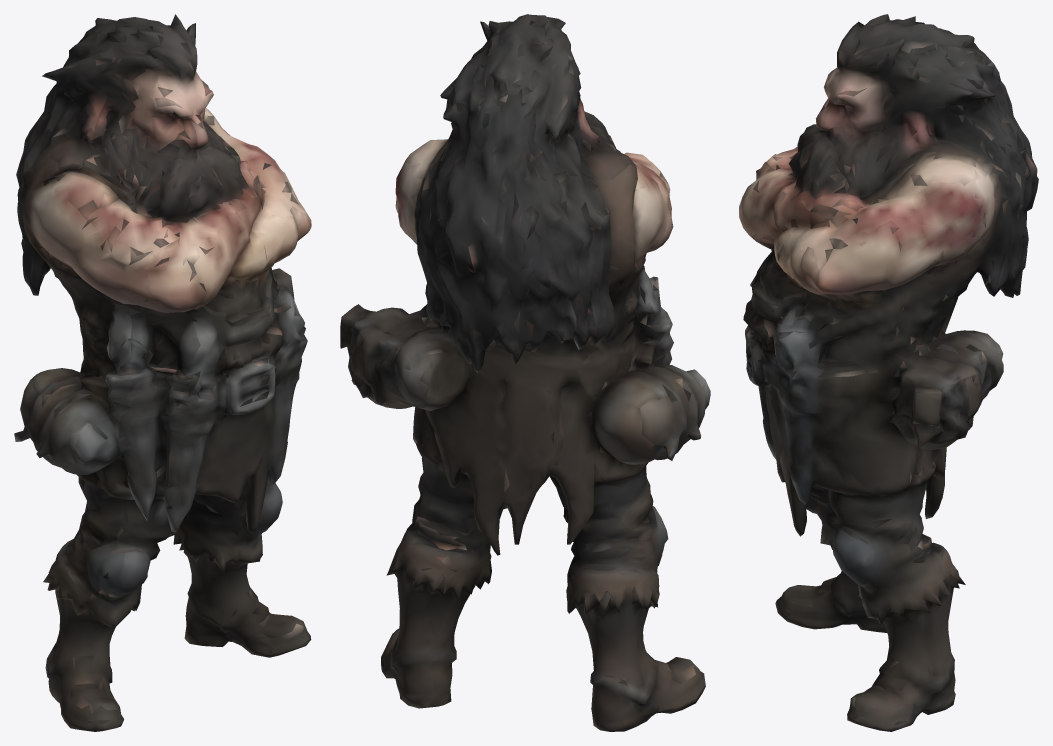
The model's file is Galnir_final.glb.
3 renders of one model, left to right at view 1: azimuth 30°, elevation 25°; view 2: azimuth 150°, elevation 25°; view 3: azimuth 270°, elevation 25°, orthographic. The views are drawn at different scales.
Parts seen in each view (by area): view 1: Mesh1.0; view 2: Mesh1.0; view 3: Mesh1.0.
Part boxes in pixels (left/top/right/bottom): Mesh1.0: left=14, top=14, right=311, bottom=731; Mesh1.0: left=340, top=14, right=710, bottom=731; Mesh1.0: left=739, top=14, right=1038, bottom=731.
Bounding box in the file's own units: 0.8566 × 1.8 × 0.7602.
Materials: 1 (1 with a texture image).
